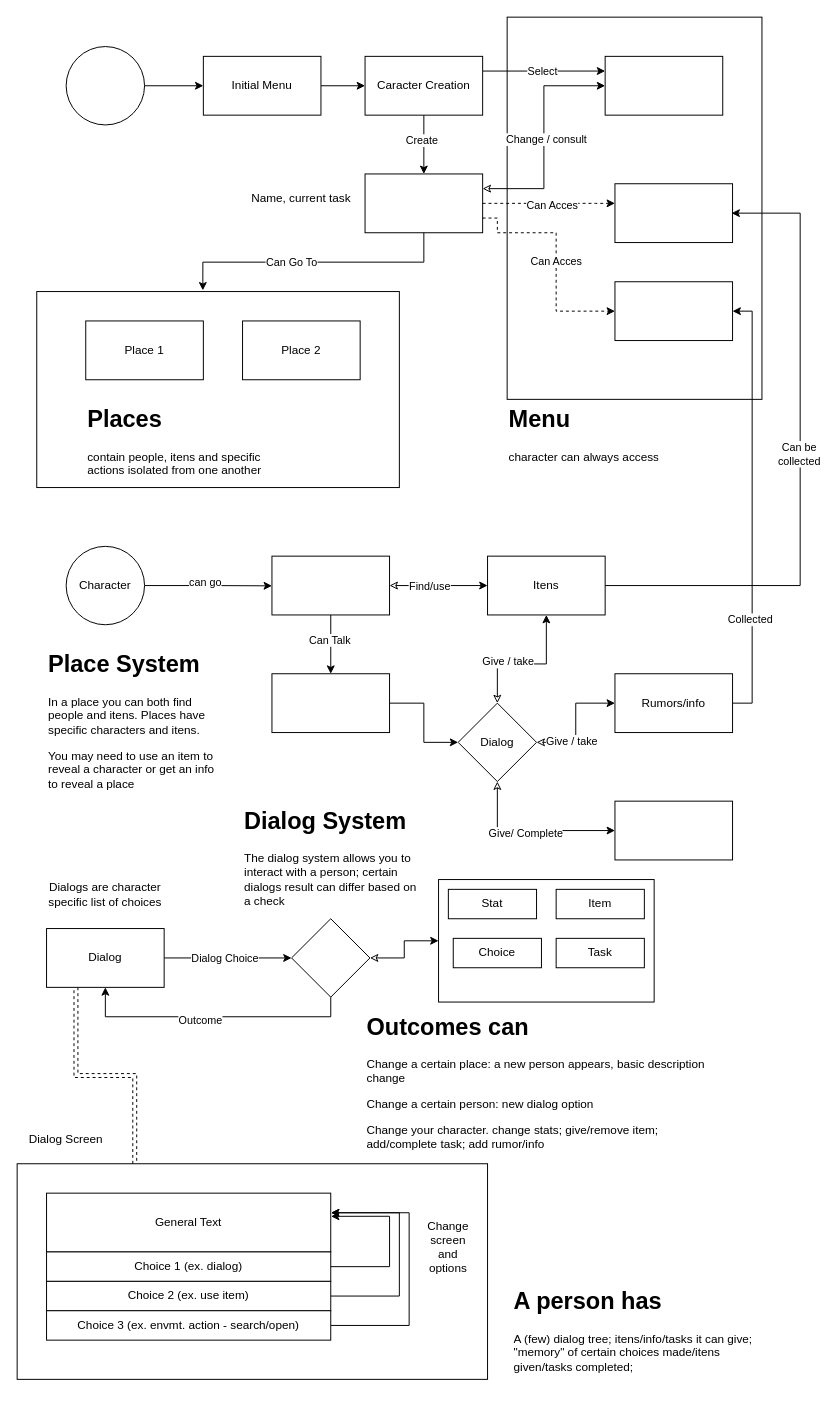
Some shapes in this 837 by 1419 pixel diagram are drawn without their labels. Here are the shapes that lost their labels. From the top down, the centre of each, then its label:
At (105,85): "Game Start".
At (663,85): "Stats".
At (423,203): "Caracter".
At (673,213): "Inventory".
At (673,311): "Clues / info".
At (330,585): "Place".
At (330,703): "Person".
At (673,830): "Tasks".
At (330,957): "Check".
